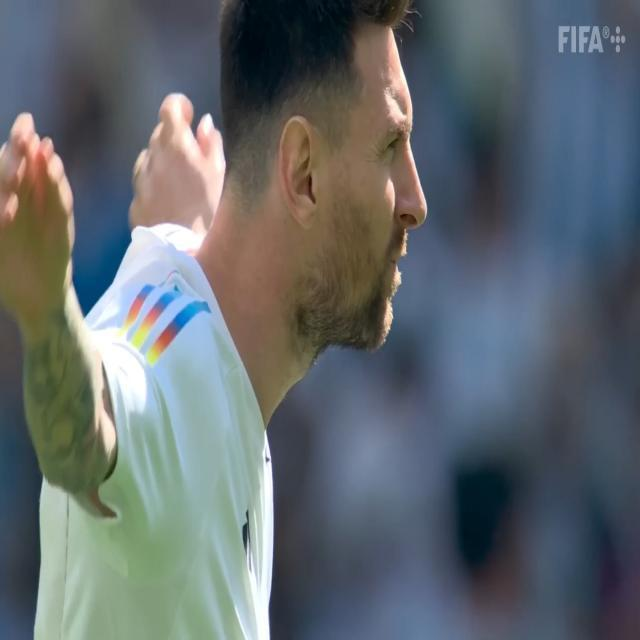player: (1, 0, 428, 640)
